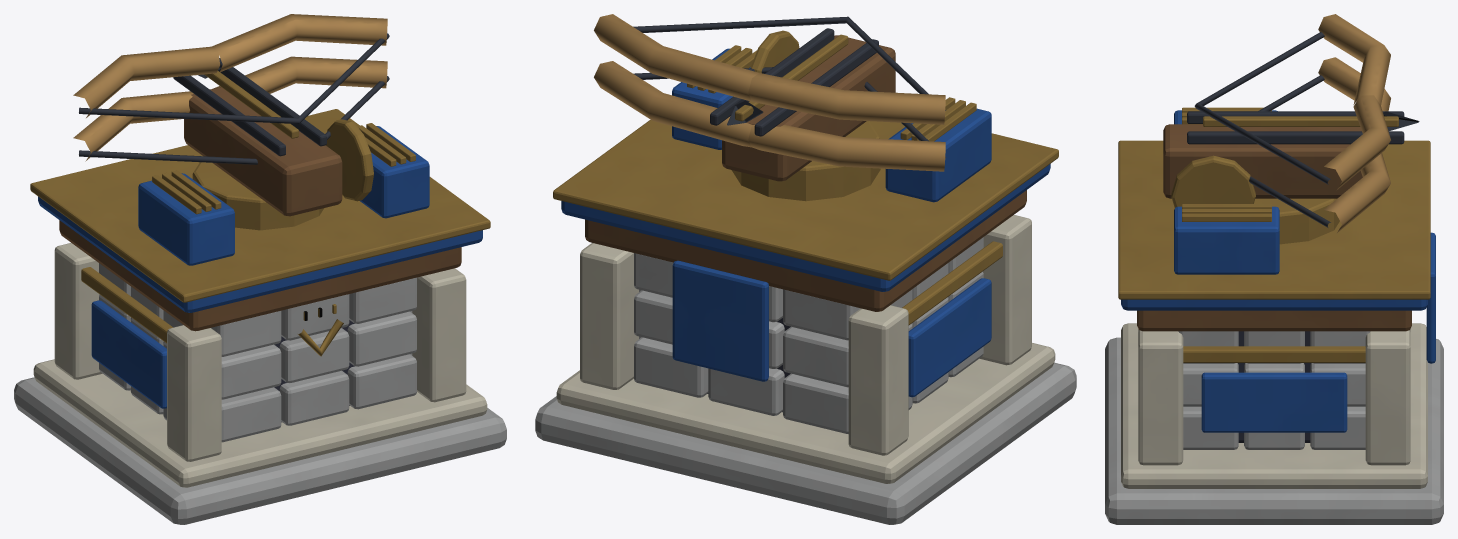
The model's file is ballista_tower_medium.glb.
The picture shows the model from 3 angles, left to right: view 1: azimuth 30°, elevation 25°; view 2: azimuth 150°, elevation 25°; view 3: azimuth 270°, elevation 25°; orthographic projection. The views are drawn at different scales.
Parts seen in each view (by area): view 1: ballista_tower_medium_surface; view 2: ballista_tower_medium_surface; view 3: ballista_tower_medium_surface.
Boxes of the visible parts, x1,y1,x2,y2 form: ballista_tower_medium_surface: [14, 14, 506, 524]; ballista_tower_medium_surface: [535, 14, 1076, 524]; ballista_tower_medium_surface: [1105, 14, 1443, 524].
Bounding box in the file's own units: 1.48 × 1.5 × 1.28.
1 material, 1 textured.
